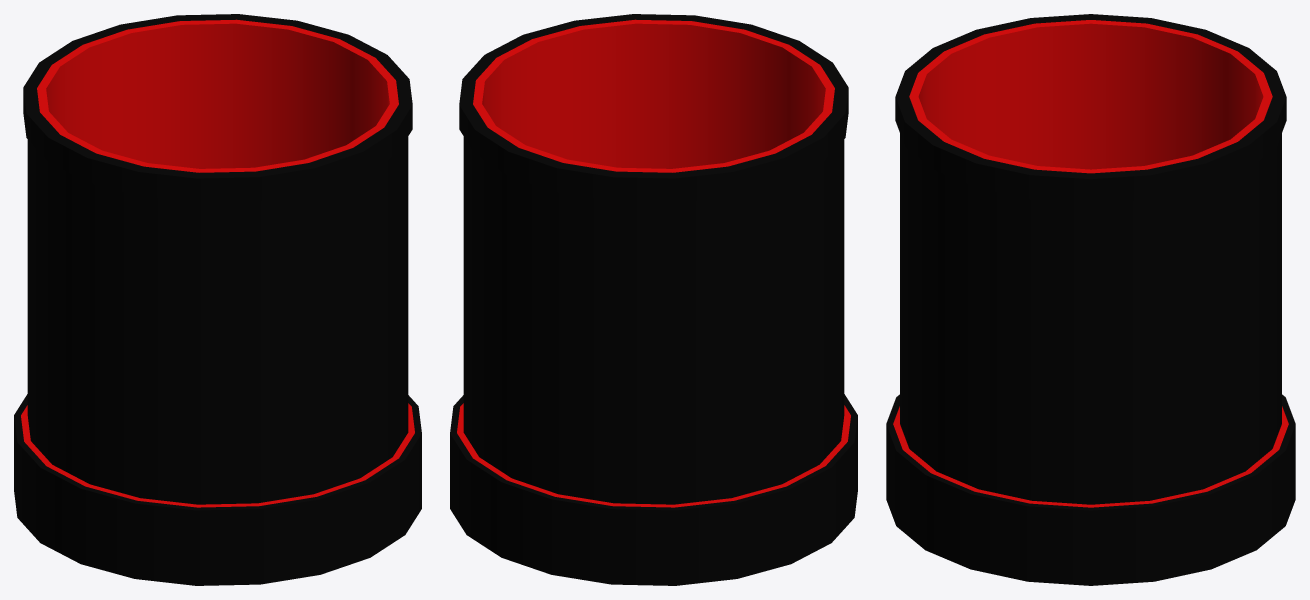
The model's file is SM_GamblingCupWithDice.fbx.
The picture shows the model from 3 angles, left to right: view 1: azimuth 30°, elevation 25°; view 2: azimuth 150°, elevation 25°; view 3: azimuth 270°, elevation 25°; orthographic projection.
Visible parts, largest first — view 1: DiceCup, DiceCupCap; view 2: DiceCup, DiceCupCap; view 3: DiceCup, DiceCupCap.
Boxes of the visible parts, <box> form: DiceCup: <box>23,14,412,504</box>; DiceCupCap: <box>14,394,421,585</box>; DiceCup: <box>459,14,848,504</box>; DiceCupCap: <box>450,394,857,585</box>; DiceCup: <box>895,14,1286,504</box>; DiceCupCap: <box>886,394,1295,585</box>.
Bounding box in the file's own units: 0.0899 × 0.1083 × 0.0899.
